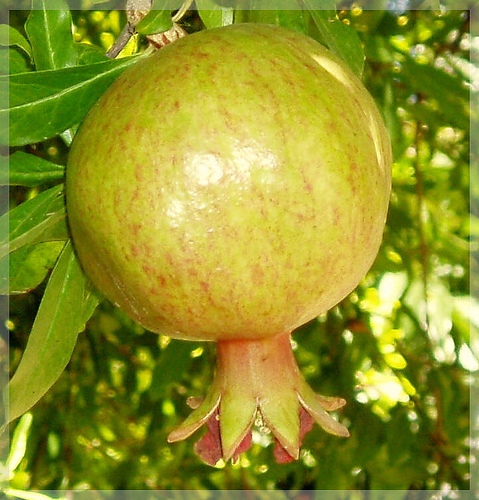pomogranate: (63, 21, 393, 465)
